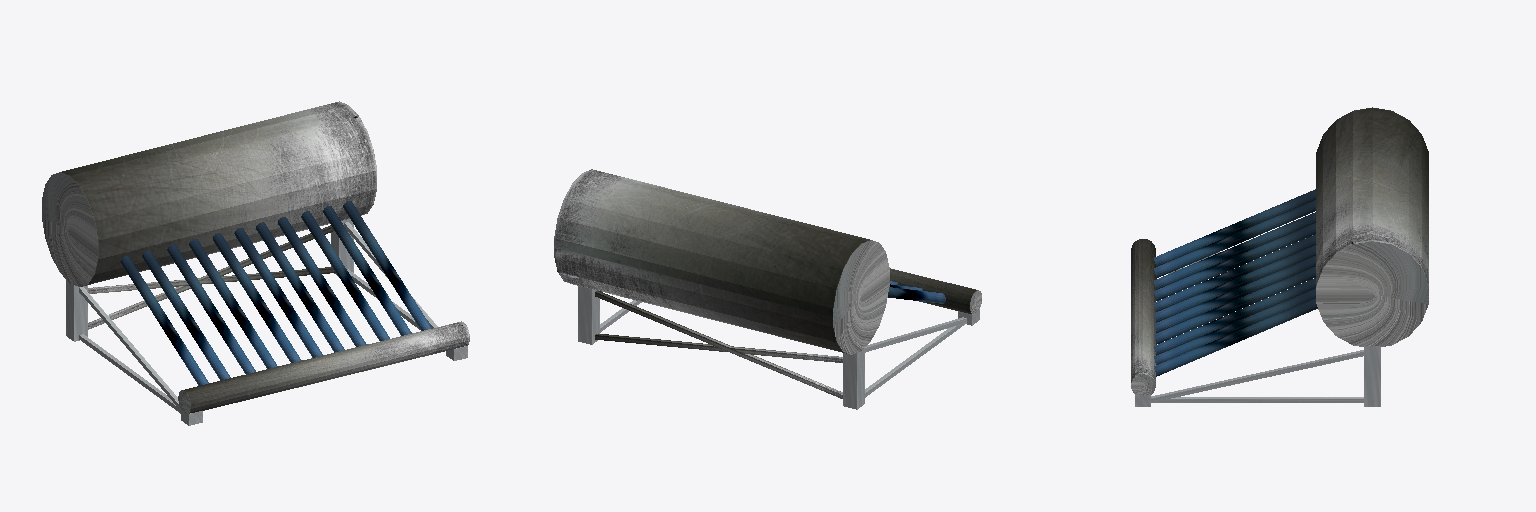
3 views of the same model, side by side, from view 1: azimuth 30°, elevation 25°; view 2: azimuth 150°, elevation 25°; view 3: azimuth 270°, elevation 25° (orthographic).
Visible parts, largest first — view 1: Cylinder002, Cylinder001, Cylinder009, Cylinder005, Cylinder010, Cylinder011, Cylinder006, Cylinder007, Cylinder012, Cylinder013, Cylinder003, Cylinder004 (+6 smaller); view 2: Cylinder002, Box010, Cylinder001, Box009, Box001, Box005, Box003, Box004, Cylinder004; view 3: Cylinder002, Cylinder001, Cylinder013, Cylinder003, Cylinder012, Cylinder006, Cylinder005, Cylinder009, Cylinder007, Cylinder008, Cylinder004, Cylinder011 (+4 smaller).
Boxes of the visible parts, box(x1,y1,x2,y2) form: Cylinder002: box(42, 101, 376, 286); Cylinder001: box(178, 321, 469, 413); Cylinder009: box(301, 211, 389, 340); Cylinder005: box(167, 244, 255, 373); Cylinder010: box(323, 206, 411, 335); Cylinder011: box(256, 222, 344, 352); Cylinder006: box(189, 239, 277, 368); Cylinder007: box(213, 233, 301, 362); Cylinder012: box(278, 217, 366, 346); Cylinder013: box(343, 201, 431, 330); Cylinder003: box(142, 250, 230, 380); Cylinder004: box(120, 256, 208, 385); Cylinder002: box(554, 169, 889, 354); Box010: box(595, 291, 842, 398); Cylinder001: box(890, 268, 981, 314); Box009: box(595, 334, 842, 362); Box001: box(843, 348, 864, 409); Box005: box(578, 286, 599, 344); Box003: box(865, 323, 966, 397); Box004: box(865, 317, 966, 352); Cylinder004: box(888, 287, 945, 303); Cylinder002: box(1316, 107, 1428, 346); Cylinder001: box(1131, 239, 1155, 394); Cylinder013: box(1154, 298, 1317, 376); Cylinder003: box(1154, 200, 1315, 278); Cylinder012: box(1154, 266, 1315, 344); Cylinder006: box(1154, 223, 1315, 300); Cylinder005: box(1154, 212, 1315, 289); Cylinder009: box(1154, 278, 1315, 355); Cylinder007: box(1154, 234, 1315, 311); Cylinder008: box(1154, 245, 1315, 322); Cylinder004: box(1154, 189, 1315, 266); Cylinder011: box(1154, 256, 1315, 332).
Size of the model in its own units: 59.49 by 33.67 by 54.81.
3 materials, 3 textured.